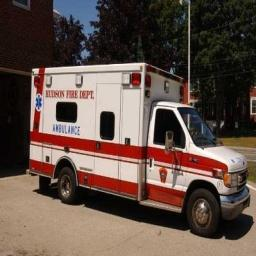Ambulance: (30, 63, 249, 236)
